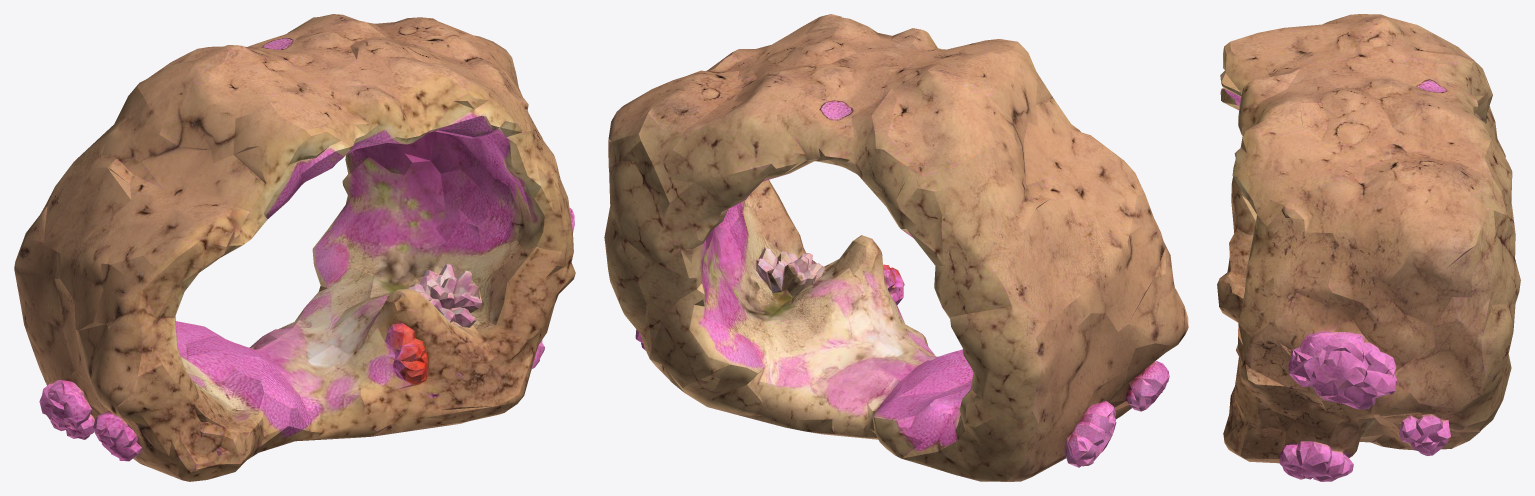
The model's file is coral-arch.glb.
The picture shows the model from 3 angles, left to right: view 1: azimuth 30°, elevation 25°; view 2: azimuth 150°, elevation 25°; view 3: azimuth 270°, elevation 25°; orthographic projection. The views are drawn at different scales.
Bounding box in the file's own units: 1 × 0.6923 × 0.5441.
1 material, 1 textured.
